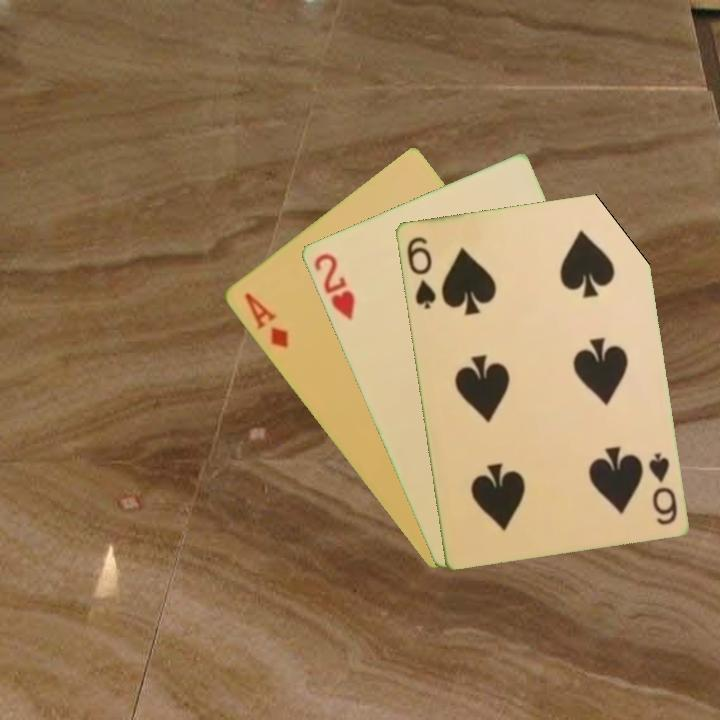2h: (309, 249, 357, 323)
6s: (402, 232, 439, 312), (644, 448, 680, 528)
Ad: (240, 289, 291, 351)
